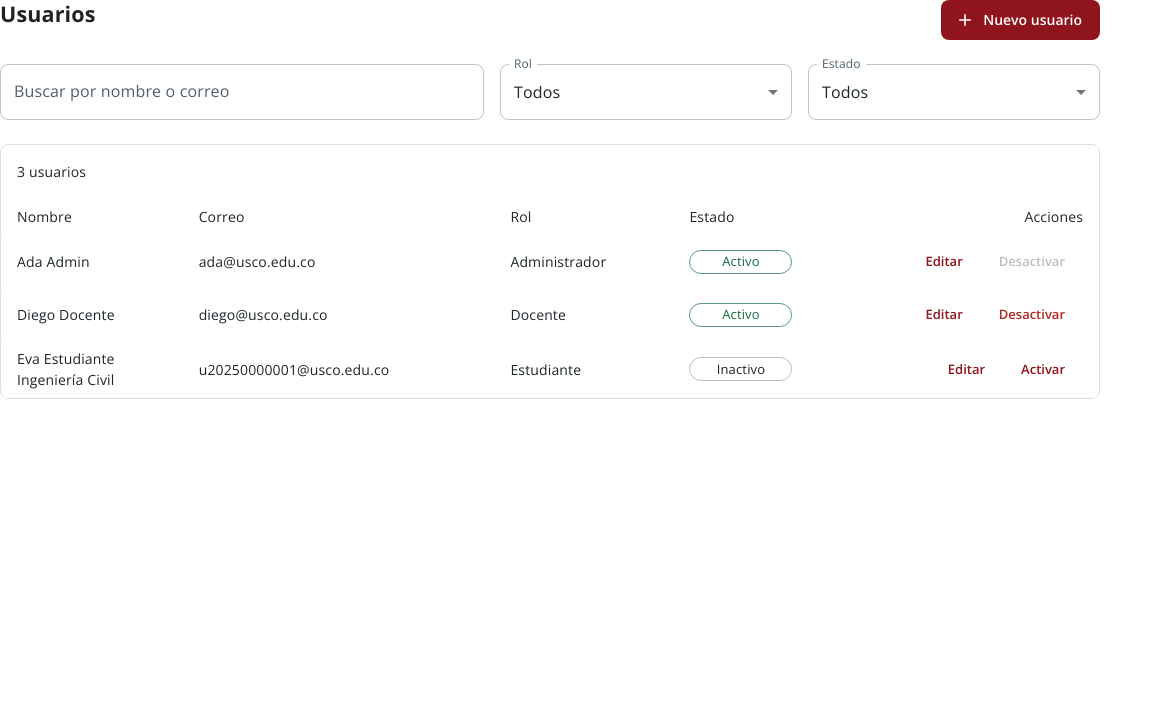
Test: UsuariosPage › pide confirmación antes de desactivar y no deja desactivarse a uno mismo
Expected: the text "3 usuarios" is shown, [17, 162, 86, 181]
Expected: the button with aria-label "Desactivar a Ada Admin" is disabled, [981, 242, 1083, 282]
Step 1. Click the button with aria-label "Desactivar a Diego Docente" → (1032, 315), box [981, 295, 1083, 335]
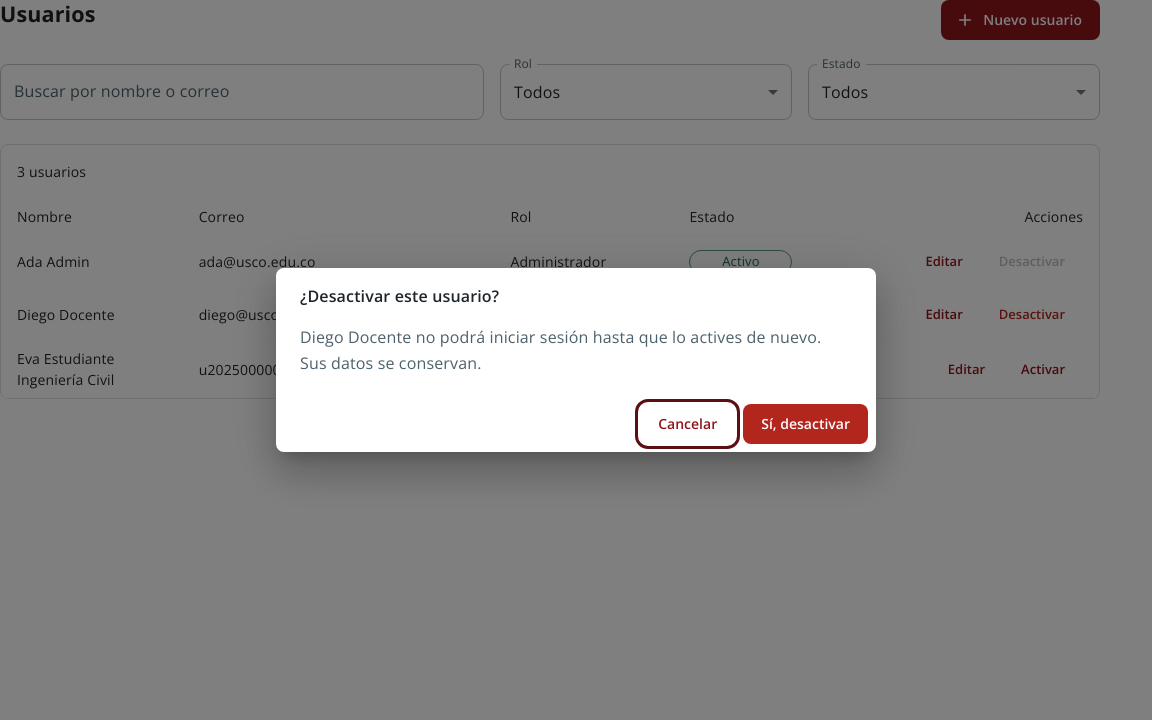
Step 2. Click the button "Sí, desactivar" → (806, 424), box [743, 404, 868, 444]
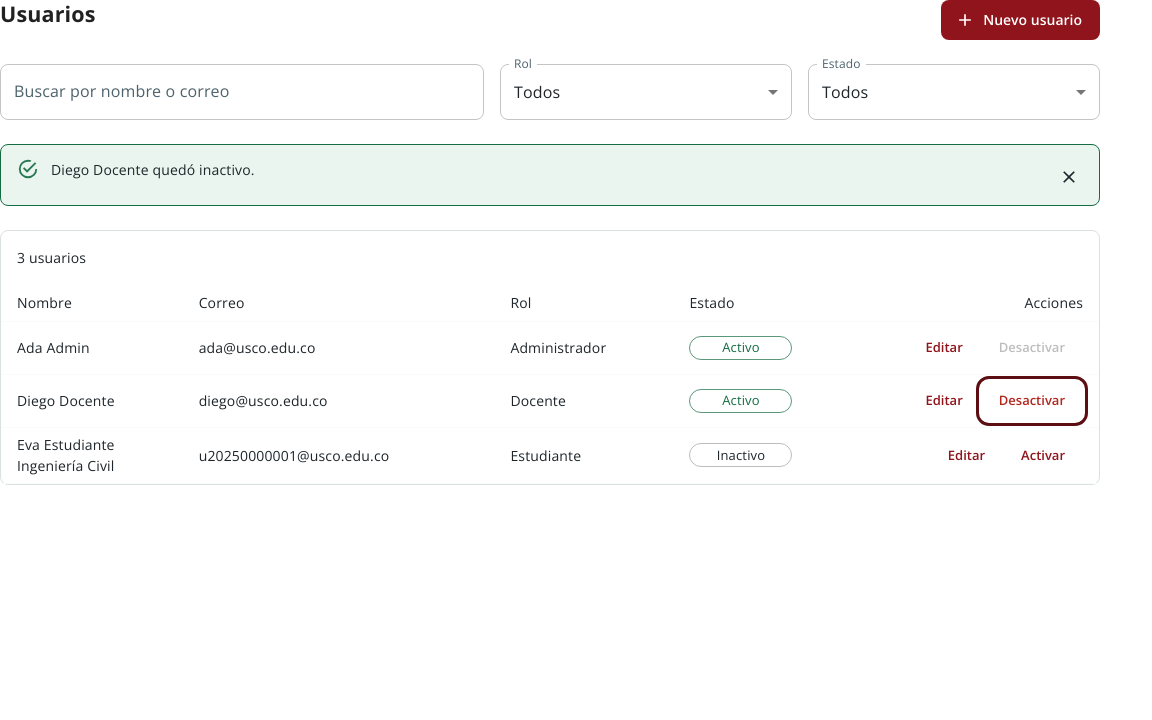
Now the text "Diego Docente quedó inactivo." is shown, box [51, 160, 255, 179]
